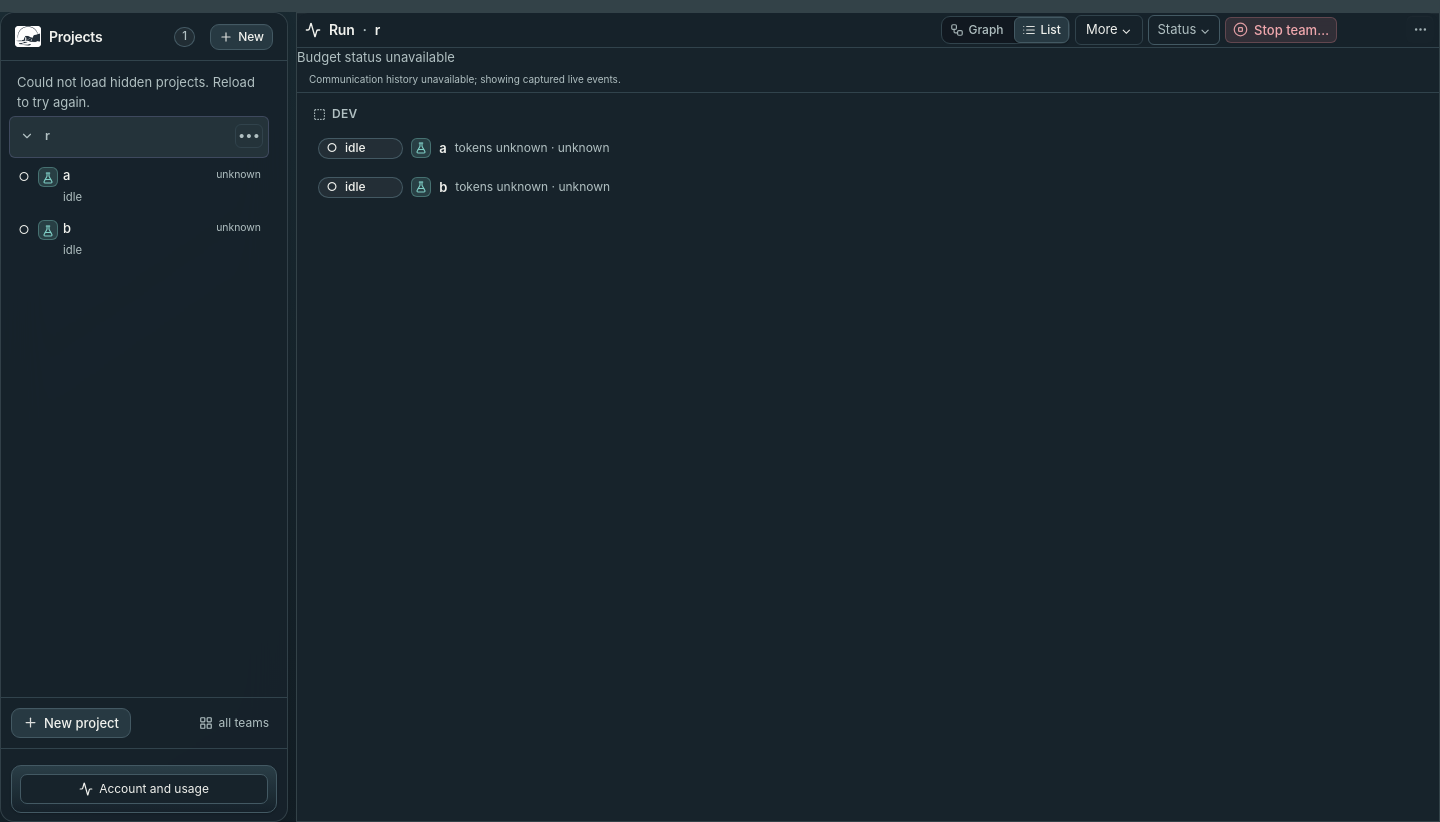
Scenario: RigView stop rig › shows no failure alert when every seat stopped
Click the button "Stop team…" at (1281, 30), box [1225, 17, 1337, 43]
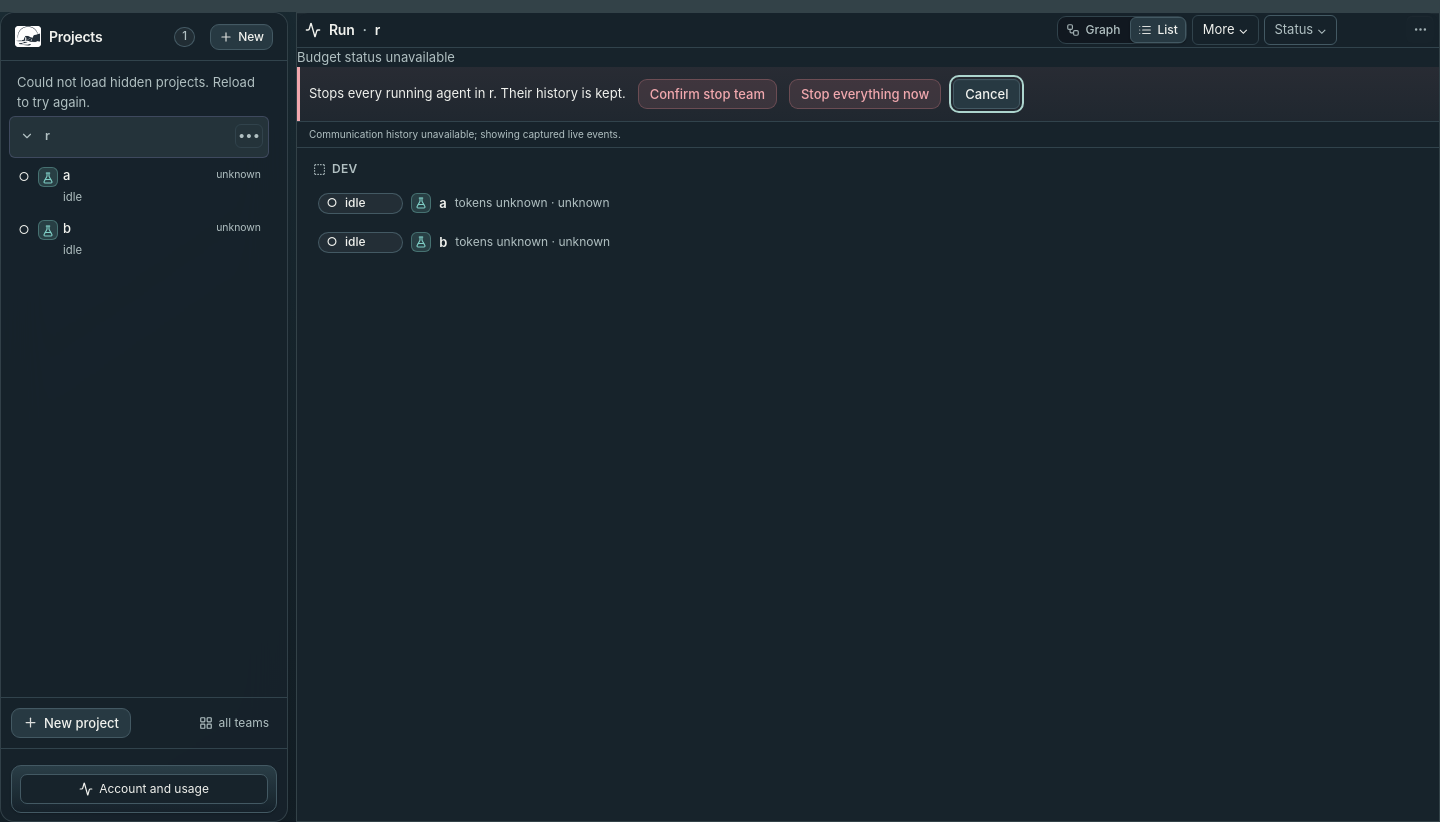
Click the button "Confirm stop team" at (707, 94), box [638, 79, 777, 109]
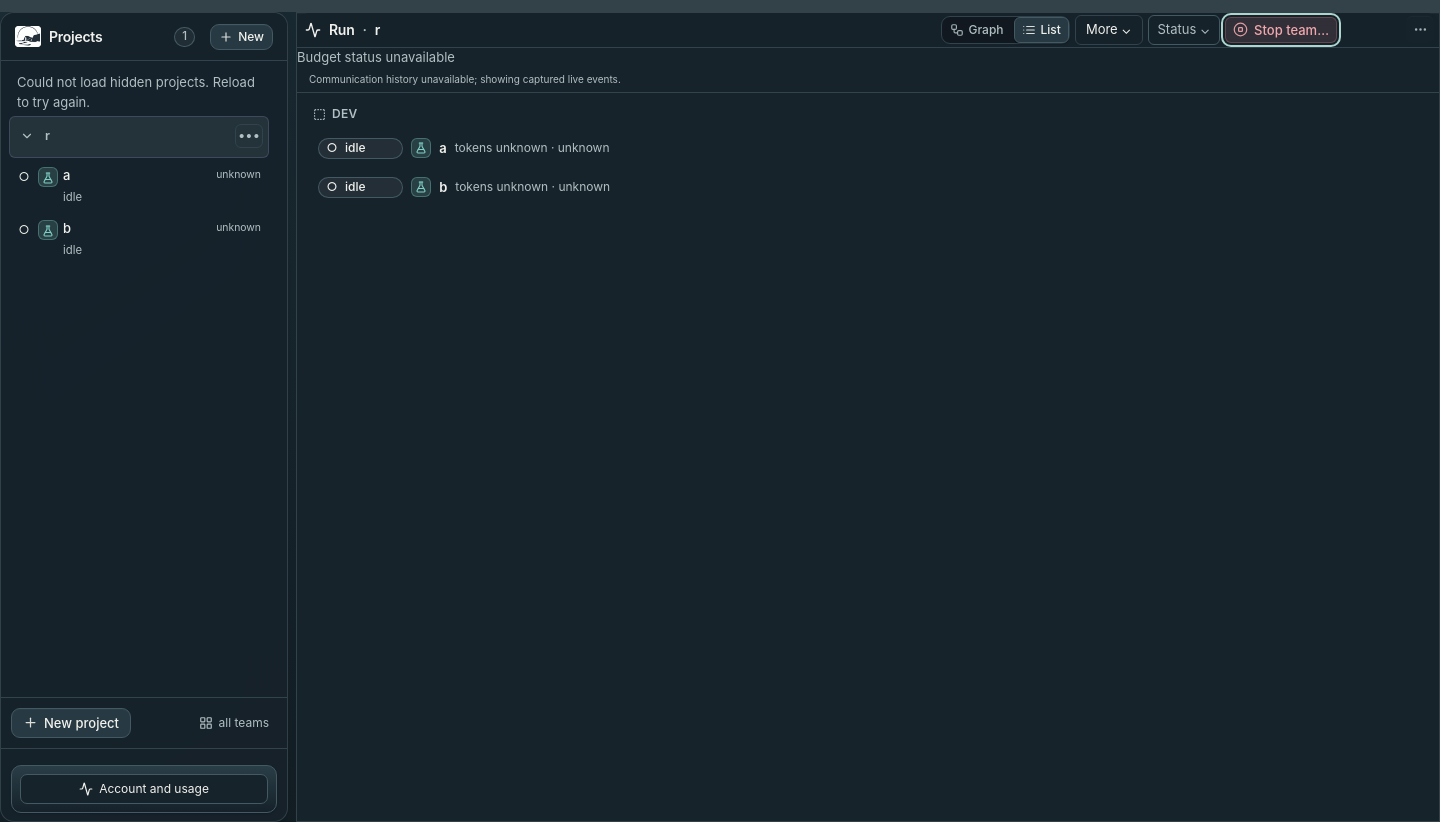
Now the button "Confirm stop team" is gone
